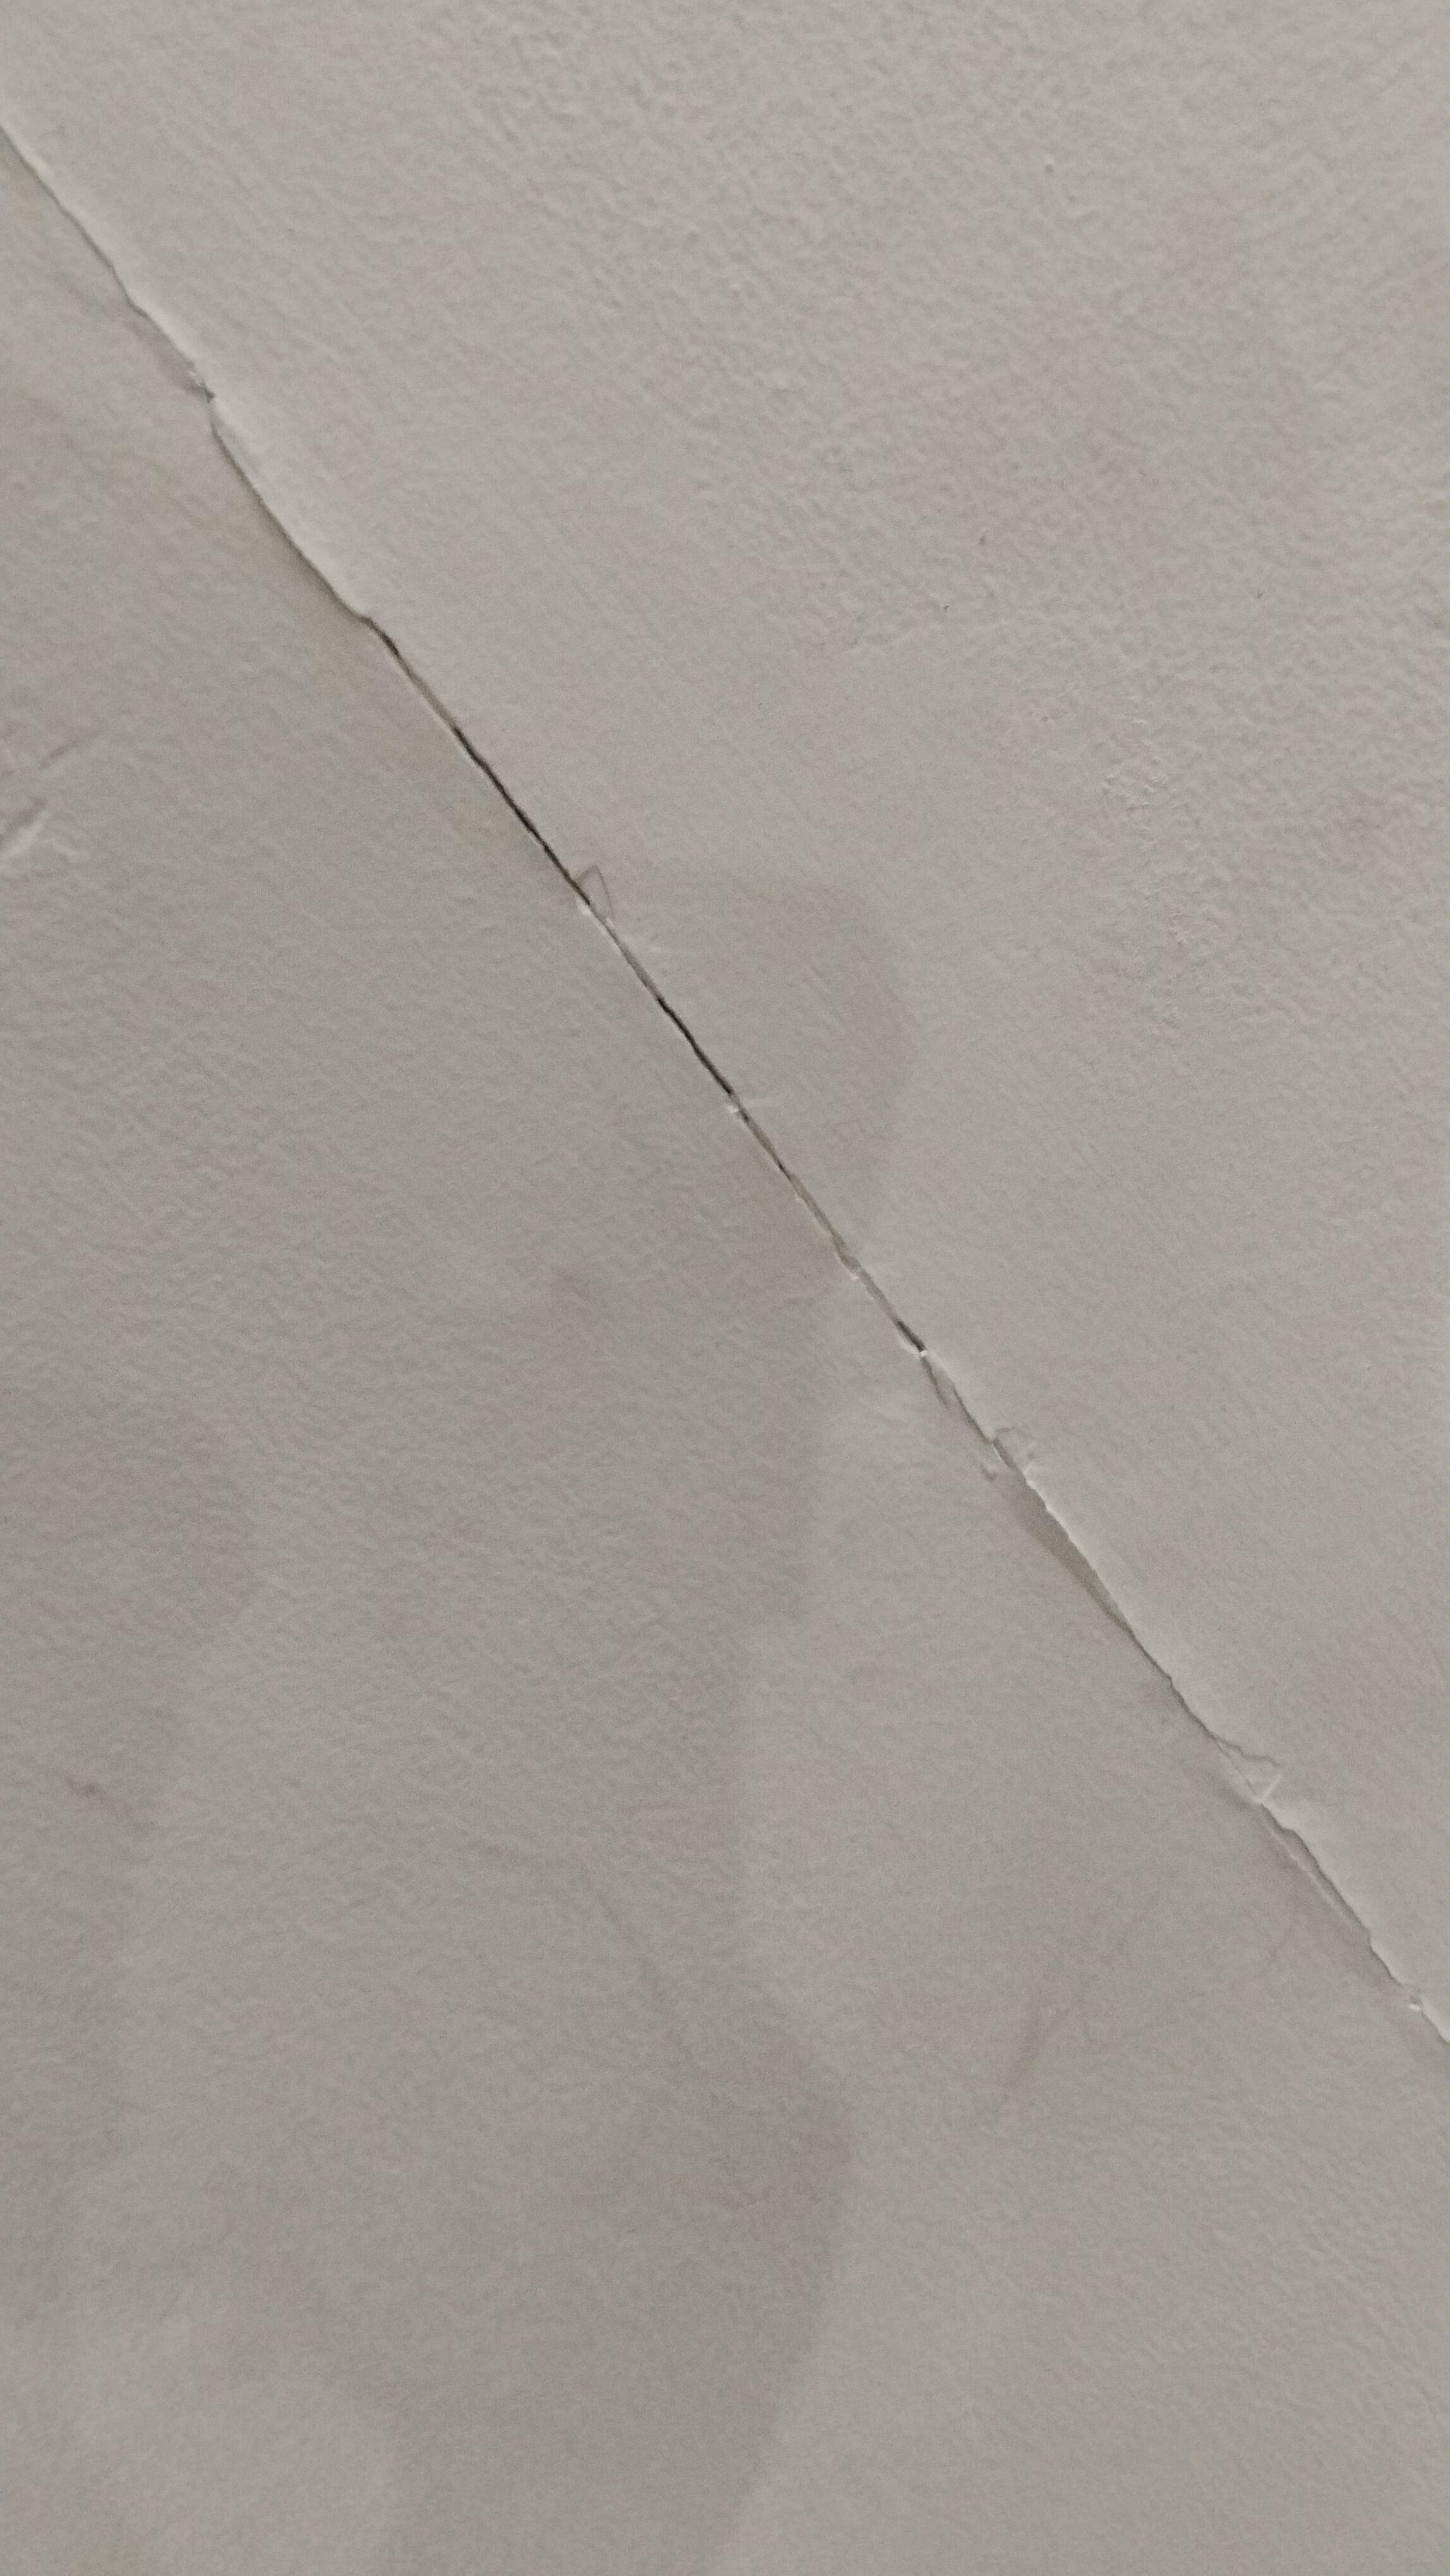Crack: (197, 548, 903, 1364), (839, 1237, 1351, 2058)
